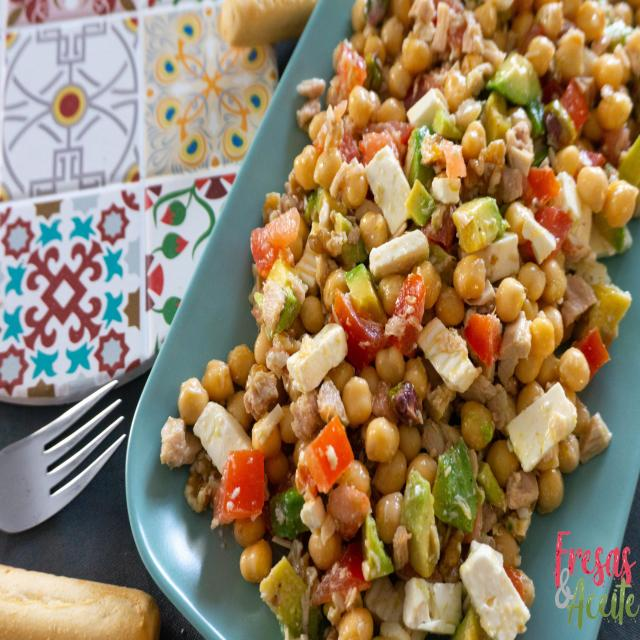garbanzos: (320, 0, 632, 353)
